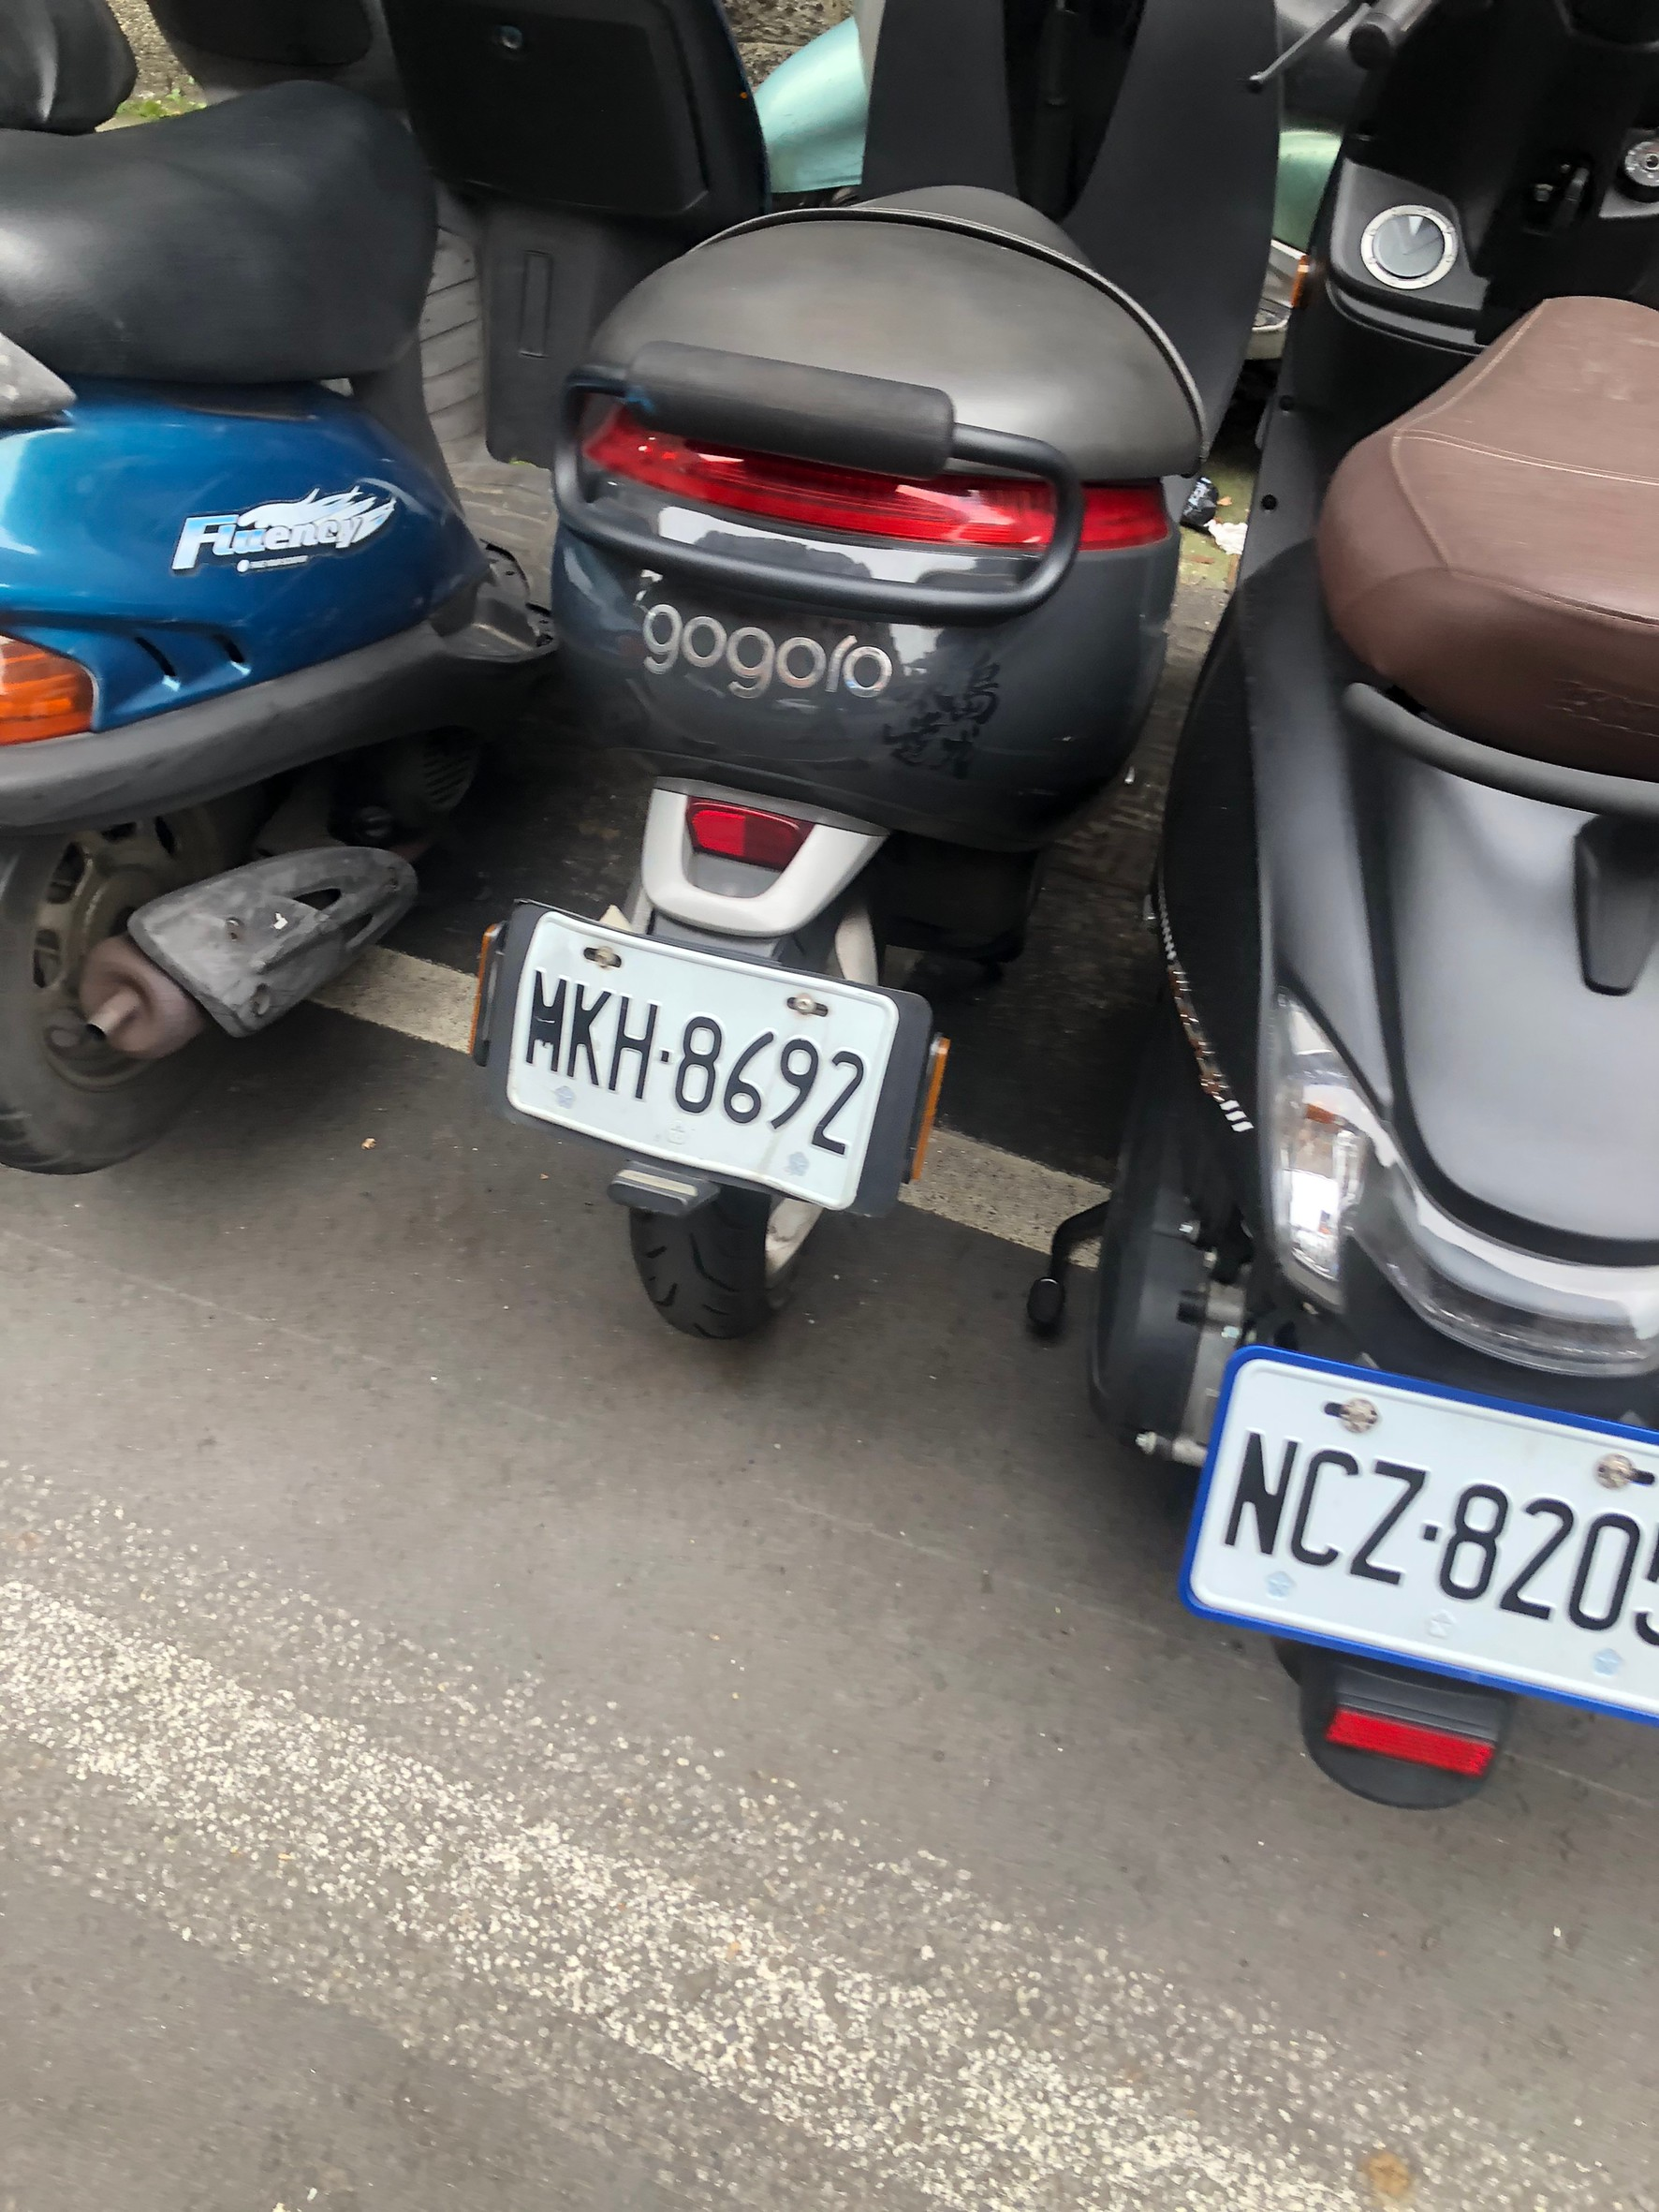LP: (1187, 1400, 1659, 1672), (504, 956, 903, 1158)
